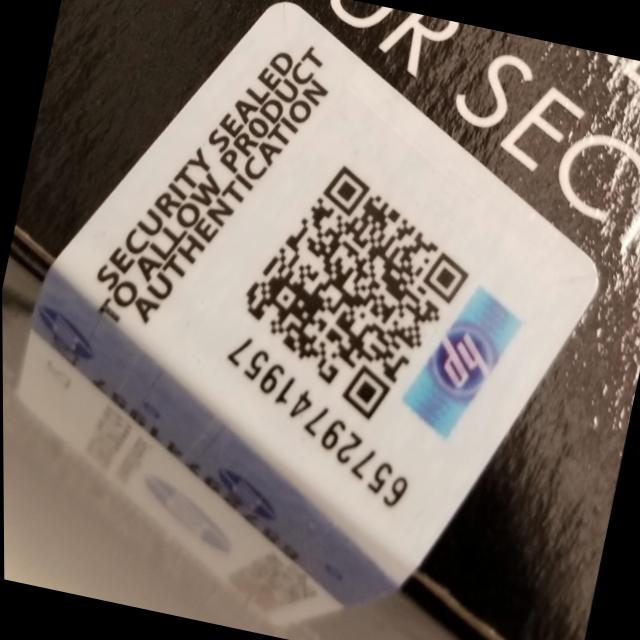QR_CODE: (214, 139, 494, 446)
